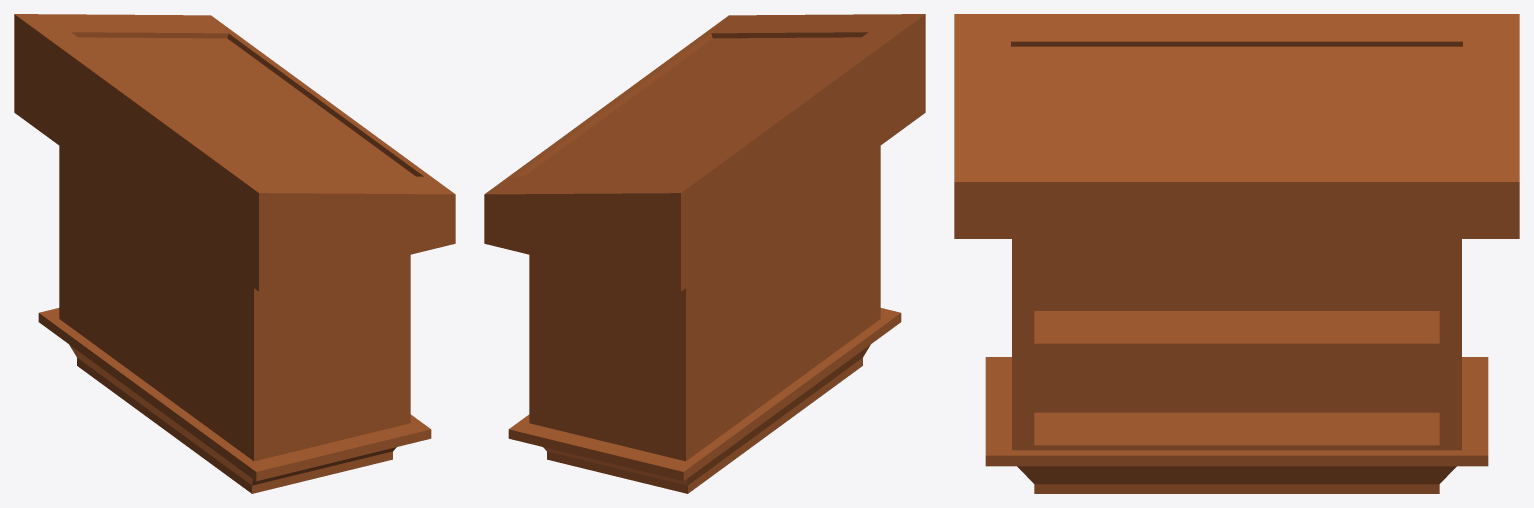
File: Jiangtai001.fbx
3 renders of one model, left to right at view 1: azimuth 30°, elevation 25°; view 2: azimuth 150°, elevation 25°; view 3: azimuth 270°, elevation 25°, orthographic. The views are drawn at different scales.
Parts seen in each view (by area): view 1: polySurface14; view 2: polySurface14; view 3: polySurface14.
Part boxes in pixels (left/top/right/bottom): polySurface14: left=14, top=14, right=455, bottom=493; polySurface14: left=484, top=14, right=925, bottom=493; polySurface14: left=954, top=14, right=1519, bottom=493.
Bounding box in the file's own units: 70.07 × 113 × 151.
